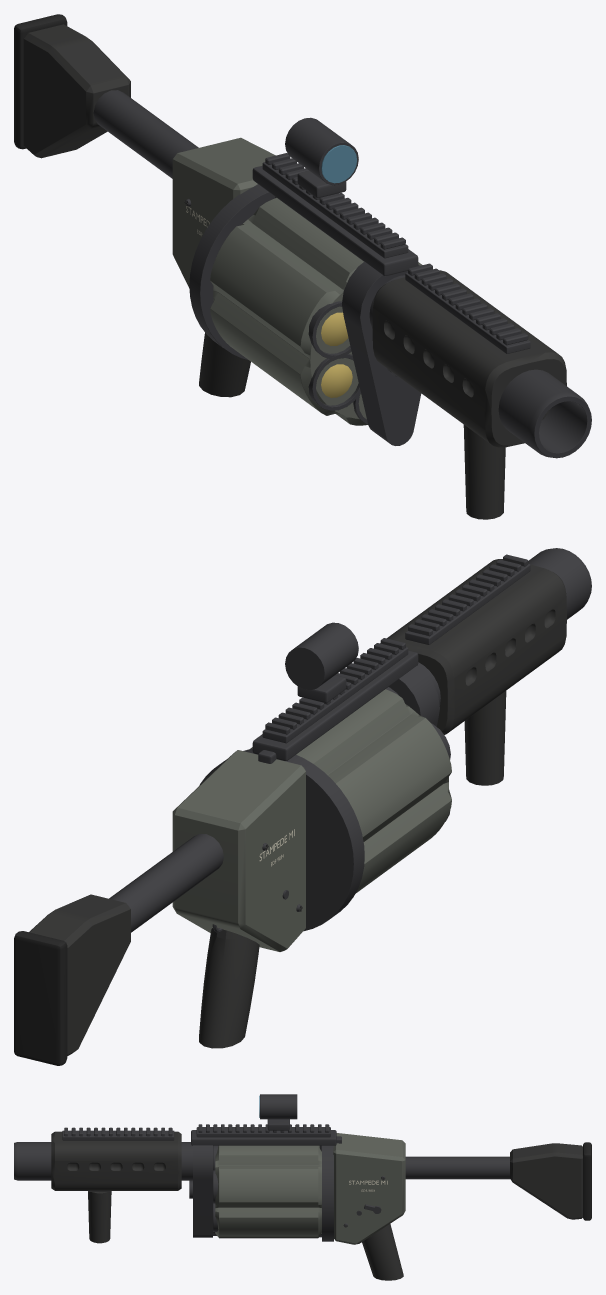
File: stampede.glb
The picture shows the model from 3 angles, top to bottom: view 1: azimuth 30°, elevation 25°; view 2: azimuth 150°, elevation 25°; view 3: azimuth 270°, elevation 25°; orthographic projection. The views are drawn at different scales.
Visible parts, largest first — view 1: Body; view 2: Body; view 3: Body.
Part boxes in pixels (<box>): Body: <box>14,14,591,519</box>; Body: <box>14,548,591,1065</box>; Body: <box>14,1094,591,1280</box>.
Bounding box in the file's own units: 0.14 × 0.2669 × 0.775.
